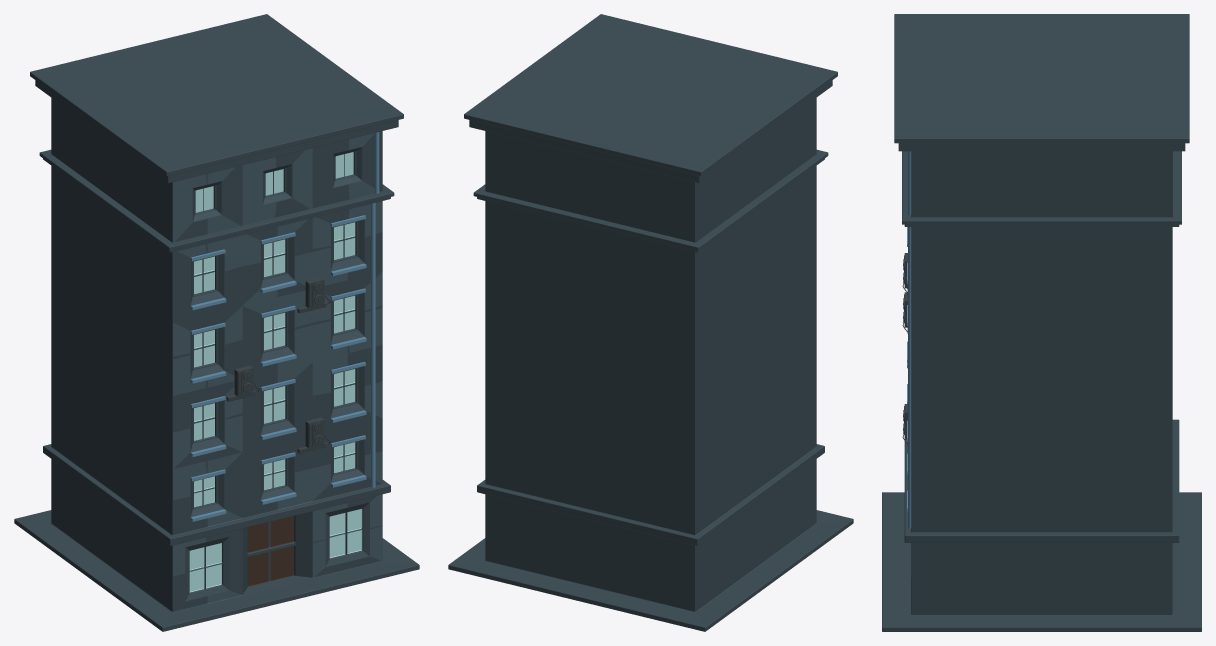
File: buildingberlin2.fbx
The picture shows the model from 3 angles, left to right: view 1: azimuth 30°, elevation 25°; view 2: azimuth 150°, elevation 25°; view 3: azimuth 270°, elevation 25°; orthographic projection. The views are drawn at different scales.
Visible parts, largest first — view 1: Cube, Cube.001, Cube.002, Cylinder.003, Cylinder, Cylinder.002, Cylinder.001, Cube.003; view 2: Cube; view 3: Cube, Cylinder.003.
Part boxes in pixels (x1,y1,x2,y2): Cube: [14, 14, 419, 631]; Cube.001: [190, 215, 365, 481]; Cube.002: [190, 263, 366, 456]; Cylinder.003: [371, 202, 375, 487]; Cylinder: [226, 365, 259, 401]; Cylinder.002: [297, 417, 330, 453]; Cylinder.001: [297, 277, 330, 313]; Cube.003: [190, 475, 366, 521]; Cube: [448, 14, 853, 631]; Cube: [882, 14, 1201, 631]; Cylinder.003: [908, 227, 911, 528].
Bounding box in the file's own units: 367 × 619 × 367.
